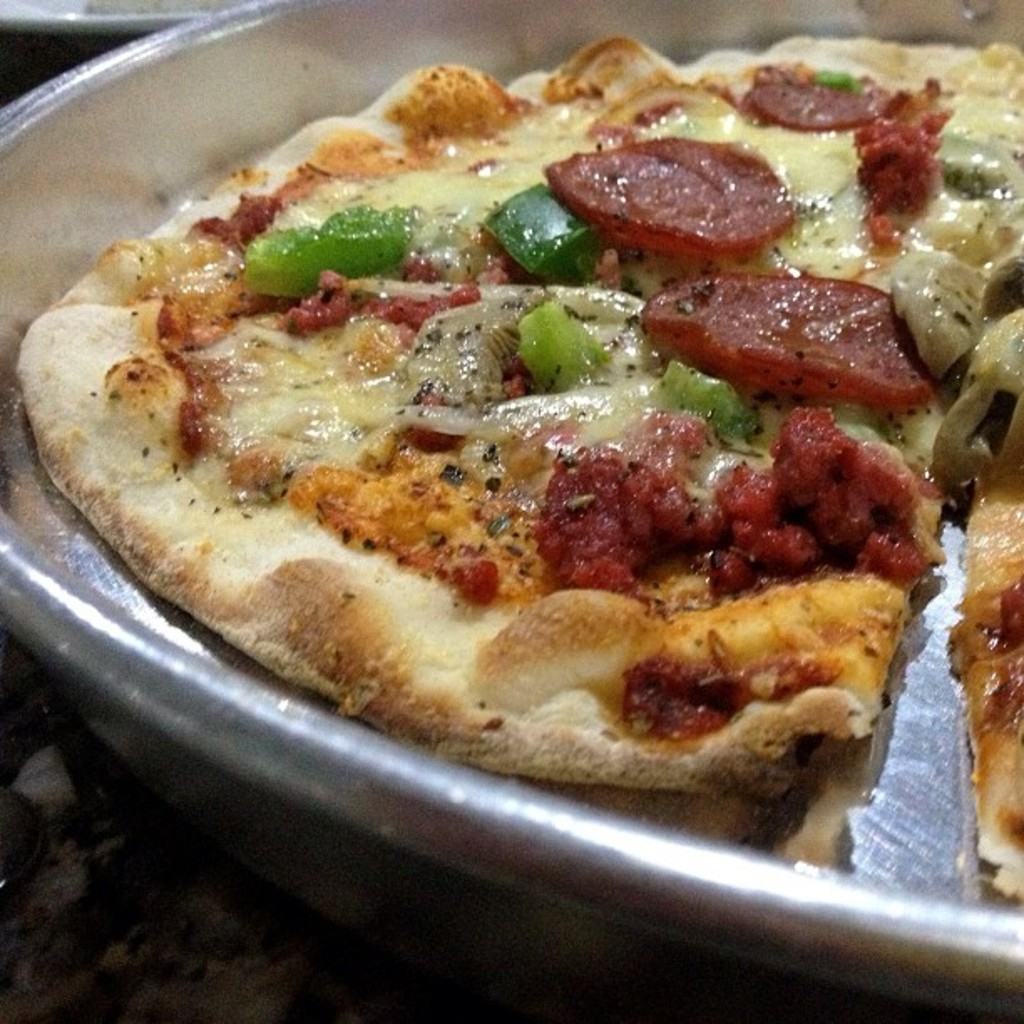Pizza: (1, 23, 1022, 898)
